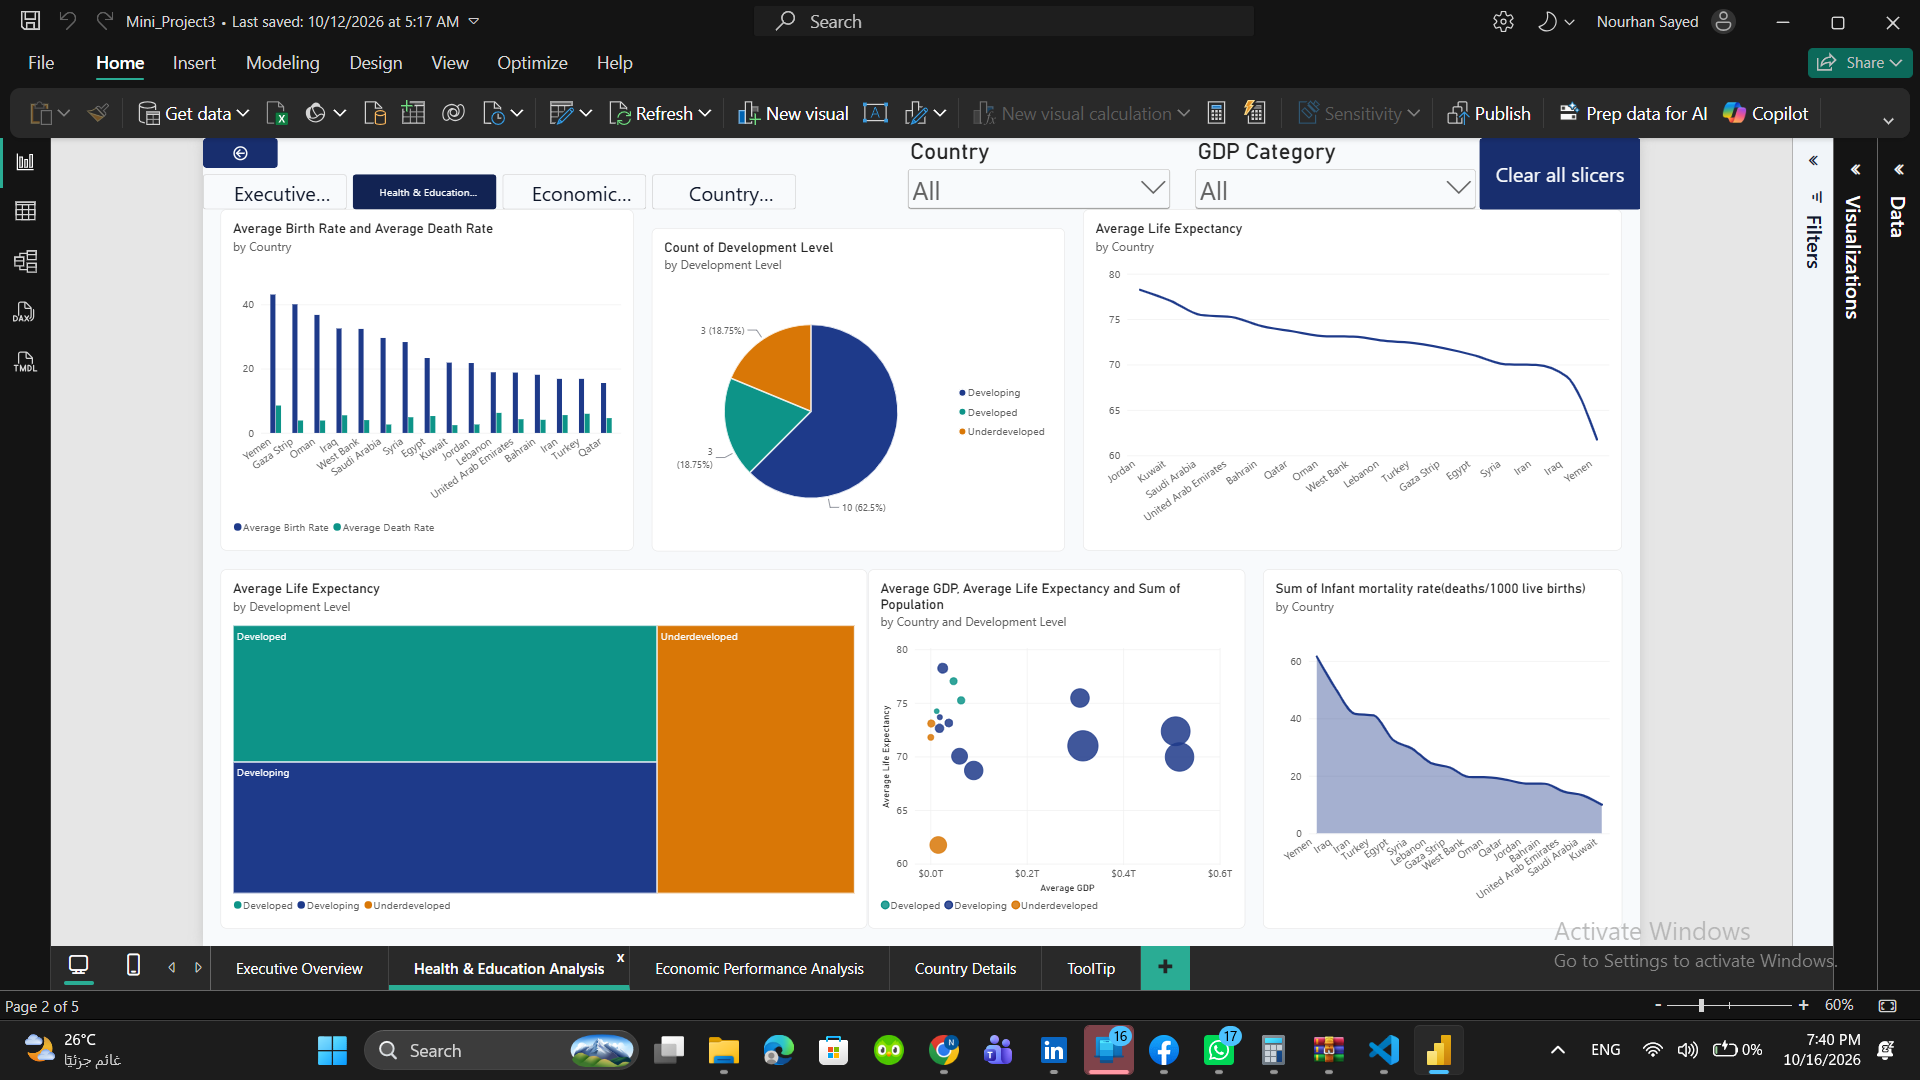

Layout of this report page (visuals, bound fields, positions):
{"tool":"powerbi","page":{"name":"Health & Education Analysis","canvas":[1920,1080],"ordinal":1},"visuals":[{"type":"clusteredColumnChart","fields":{"Category":["Country_Comparison.Country"],"Y":["Metrics.Average Birth Rate","Metrics.Average Death Rate"]},"box":[24,96,552,456],"z":0},{"type":"pieChart","fields":{"Category":["Country_Comparison.Development Level"],"Y":["CountNonNull(Country_Comparison.Development Level)"]},"box":[600,120,552,432],"z":1},{"type":"treemap","fields":{"Group":["Country_Comparison.Development Level","Country_Comparison.Country"],"Values":["Metrics.Average Life Expectancy"]},"box":[24,576,864,480],"z":2},{"type":"lineChart","fields":{"Category":["Country_Comparison.Country"],"Y":["Metrics.Average Life Expectancy"]},"box":[1176,96,720,456],"z":3},{"type":"areaChart","fields":{"Category":["Country_Comparison.Country"],"Y":["Sum(Country_Comparison.Infant mortality rate(deaths/1000 live births))"]},"box":[1416,576,480,480],"z":5},{"type":"slicer","fields":{"Values":["Country_Comparison.Country"]},"box":[936,0,360,96],"z":6},{"type":"slicer","fields":{"Values":["Country_Comparison.GDP Category"]},"box":[1320,0,384,96],"z":7},{"type":"pageNavigator","box":[0,48,792,48],"z":8},{"type":"actionButton","box":[1704,0,216,96],"z":9},{"type":"scatterChart","fields":{"Category":["Country_Comparison.Country"],"Series":["Country_Comparison.Development Level"],"Size":["Sum(Country_Comparison.Population)"],"X":["Metrics.Average GDP"],"Y":["Metrics.Average Life Expectancy"]},"box":[888,576,504,480],"z":10},{"type":"actionButton","box":[0,0,100,40],"z":11}]}

Visuals, with their boxes on the page's 1920x1080 design canvas (x1, y1, x2, y2). These are canvas units, not pixel positions in the 1920x1080 screenshot, which may show the page scaled, cropped or inside an application window:
clusteredColumnChart - Country_Comparison.Country x Metrics.Average Birth Rate: 24,96,576,552
pieChart - Country_Comparison.Development Level x CountNonNull(Country_Comparison.Development Level): 600,120,1152,552
treemap - Country_Comparison.Development Level x Country_Comparison.Country: 24,576,888,1056
lineChart - Country_Comparison.Country x Metrics.Average Life Expectancy: 1176,96,1896,552
areaChart - Country_Comparison.Country x Sum(Country_Comparison.Infant mortality rate(deaths/1000 live births)): 1416,576,1896,1056
slicer - Country_Comparison.Country: 936,0,1296,96
slicer - Country_Comparison.GDP Category: 1320,0,1704,96
pageNavigator: 0,48,792,96
actionButton: 1704,0,1920,96
scatterChart - Country_Comparison.Country x Country_Comparison.Development Level: 888,576,1392,1056
actionButton: 0,0,100,40
